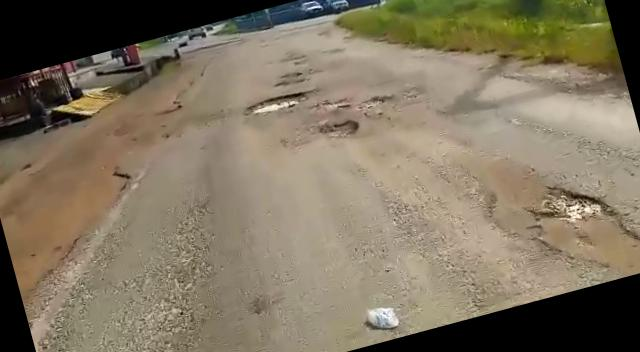pothole: (524, 166, 640, 283), (240, 86, 312, 120), (313, 112, 364, 144), (354, 90, 396, 120), (308, 94, 352, 118)
